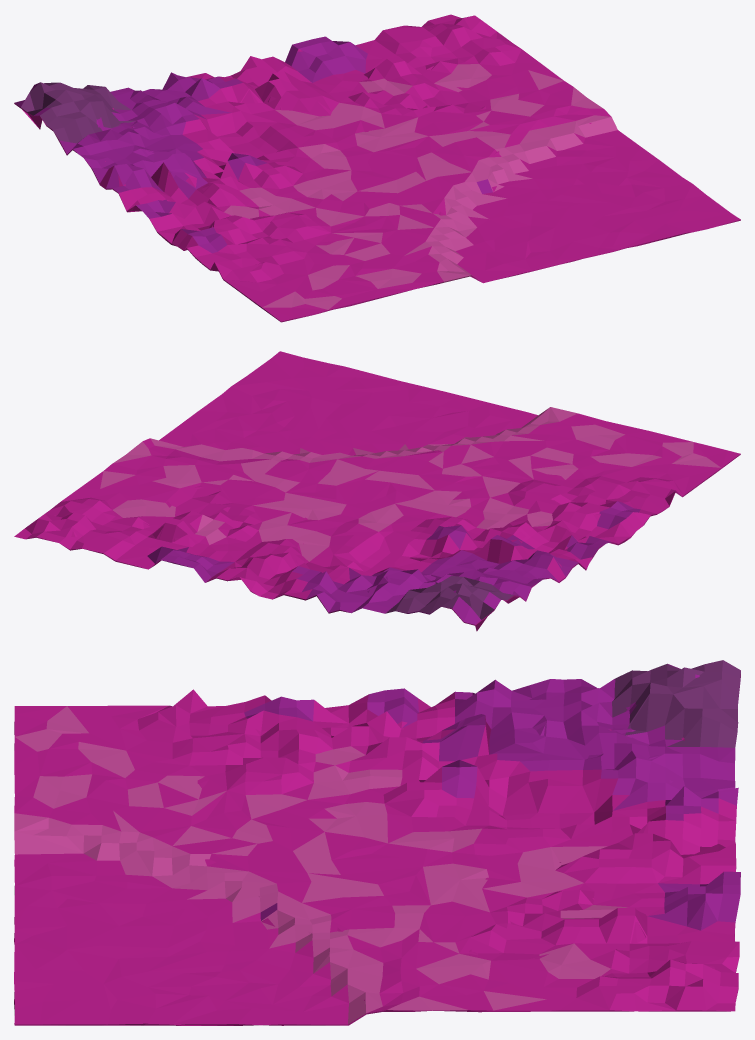
File: land.glb
3 renders of one model, top to bottom at view 1: azimuth 30°, elevation 25°; view 2: azimuth 150°, elevation 25°; view 3: azimuth 270°, elevation 25°, orthographic. The views are drawn at different scales.
Visible parts, largest first — view 1: Plane; view 2: Plane; view 3: Plane.
Boxes of the visible parts, x1,y1,x2,y2 form: Plane: [14, 14, 740, 322]; Plane: [14, 351, 740, 631]; Plane: [14, 660, 740, 1025].
Size of the model in its own units: 101 by 11.6 by 101.
Materials: 4 (4 with a texture image).
